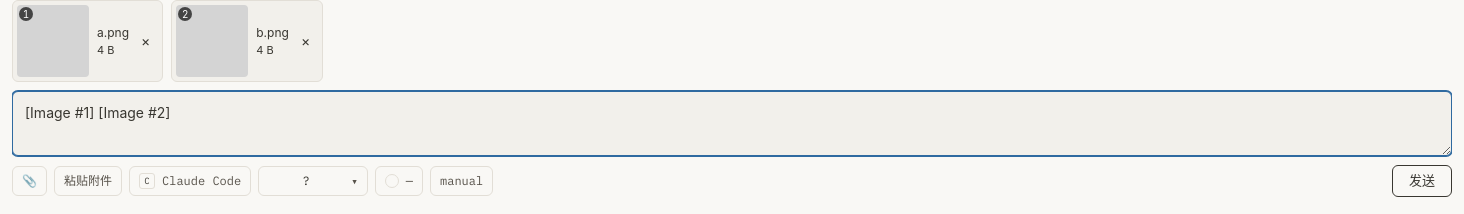
Scenario: composer attachments › inserts tokens 1 and 2, and removing the first chip renumbers the rest
Expected: the number of elements with test id "attachment-chip" is 2, [12,0,163,82]; [171,0,323,82]
Expected: the text box with test id "composer-input" holds "[Image #1] [Image #2]", [12,91,1452,156]
Click the button with test id "attachment-remove" next to "a.png" at (146, 41), box [137,30,154,52]
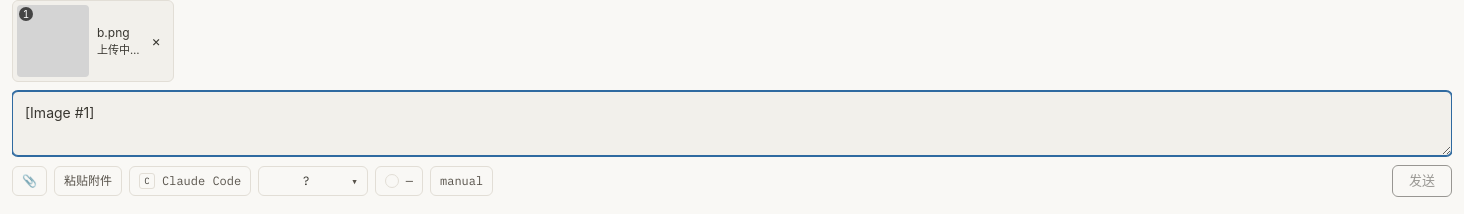
Expected: the text with test id "attachment-index" reads "1", [23,8,29,20]
Expected: the number of elements with test id "attachment-chip" is 1, [12,0,174,82]
Expected: the text box with test id "composer-input" holds "[Image #1]", [12,91,1452,156]
